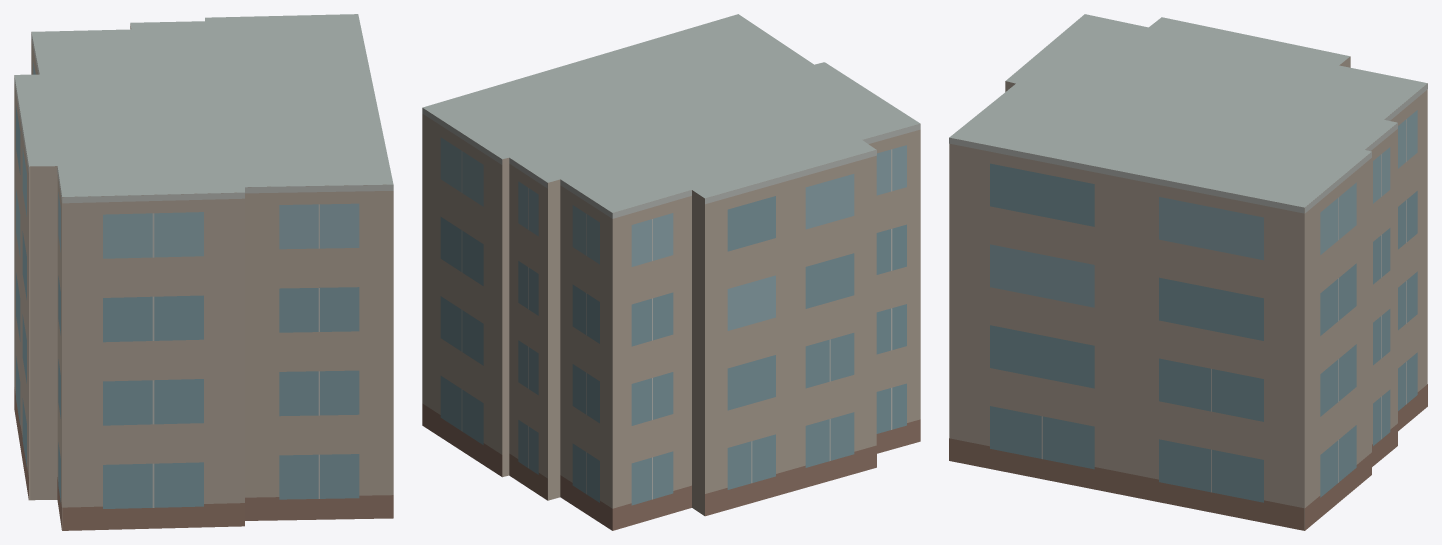
File: survey-upis-32815543.glb
3 renders of one model, left to right at view 1: azimuth 30°, elevation 25°; view 2: azimuth 150°, elevation 25°; view 3: azimuth 270°, elevation 25°, orthographic. The views are drawn at different scales.
Parts seen in each view (by area): view 1: survey-upis-32815543.tmp; view 2: survey-upis-32815543.tmp; view 3: survey-upis-32815543.tmp.
Boxes of the visible parts, x1,y1,x2,y2 form: survey-upis-32815543.tmp: [14, 14, 393, 530]; survey-upis-32815543.tmp: [422, 14, 920, 530]; survey-upis-32815543.tmp: [949, 14, 1427, 530].
Bounding box in the file's own units: 16.81 × 13.08 × 17.56.
